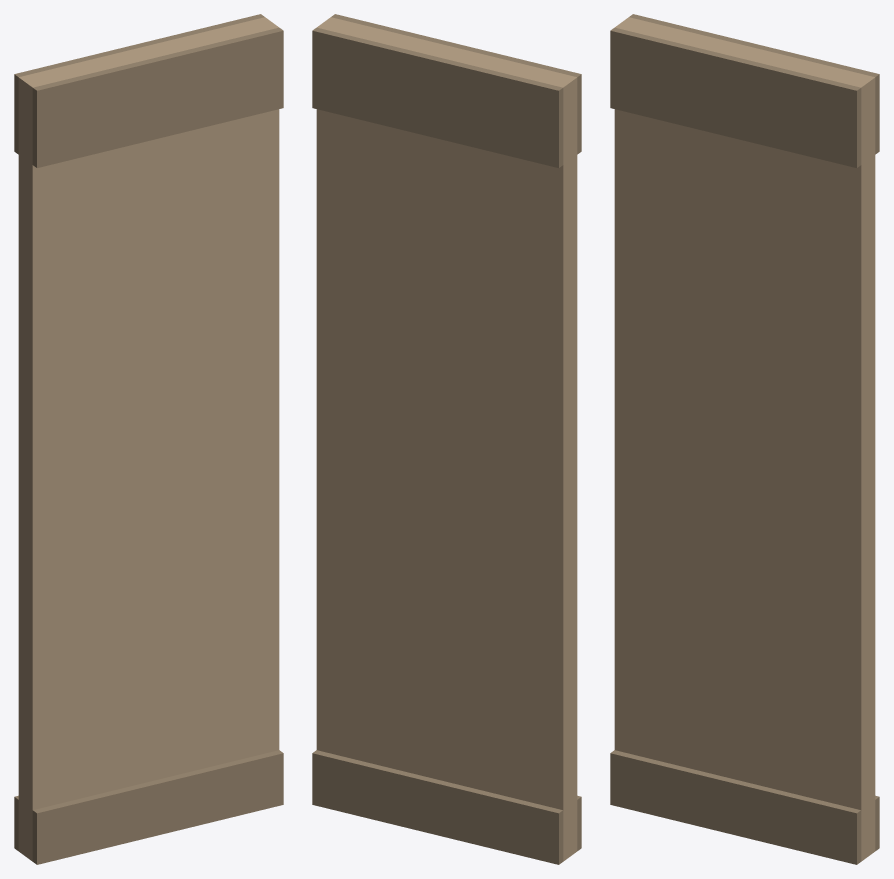
Rendered from Parede_A.fbx.
3 views of the same model, side by side, from view 1: azimuth 30°, elevation 25°; view 2: azimuth 150°, elevation 25°; view 3: azimuth 330°, elevation 25° (orthographic).
Parts seen in each view (by area): view 1: Parede_A; view 2: Parede_A; view 3: Parede_A.
Part boxes in pixels (bbox=[...]): Parede_A: bbox=[14, 14, 283, 864]; Parede_A: bbox=[312, 14, 581, 864]; Parede_A: bbox=[610, 14, 879, 864].
Bounding box in the file's own units: 100 × 300 × 16.
